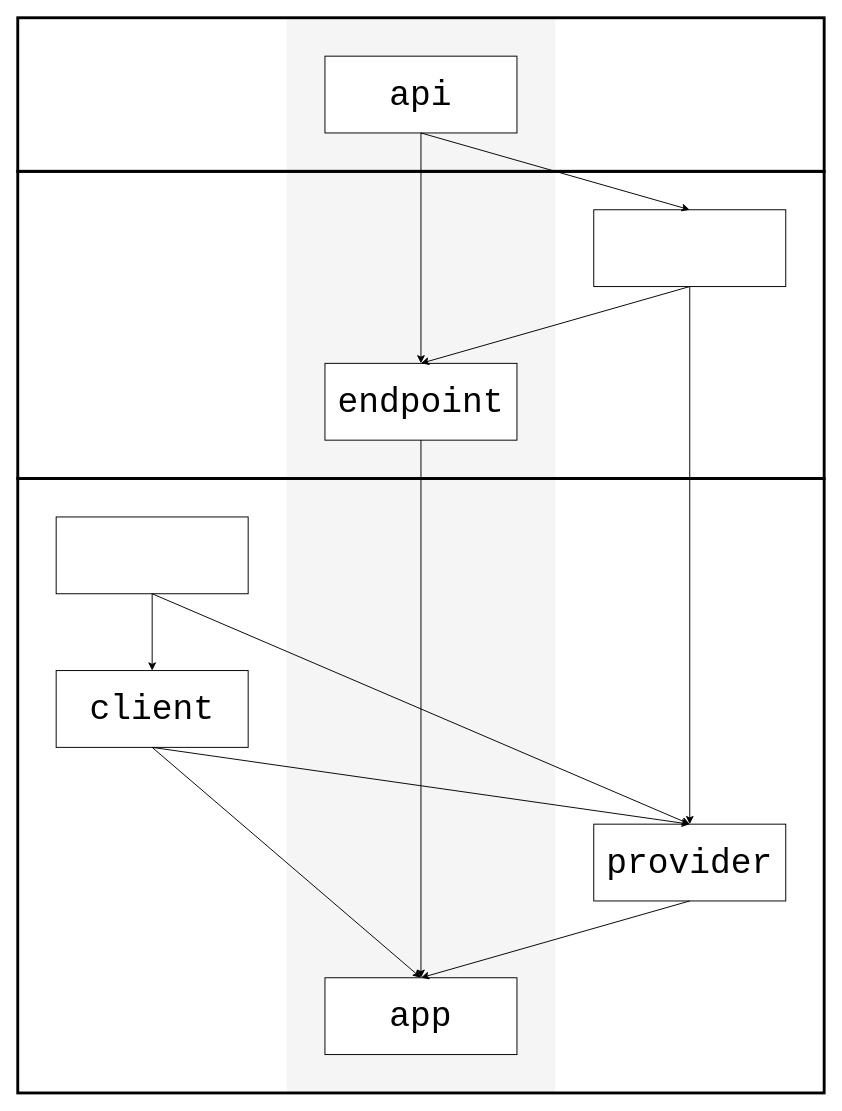
The diagram is 842 pixels wide and 1111 high, and some of its shapes have lost their labels. Here are the shapes that lost their labels. From the top down, the box of each, then its label:
(593, 209, 786, 287): spi
(55, 516, 248, 594): env
